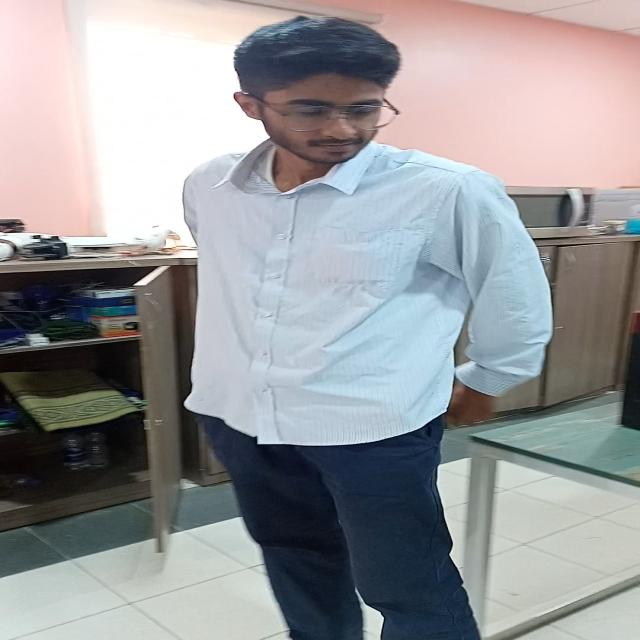dress: (172, 121, 558, 640)
glasses: (268, 98, 406, 138)
